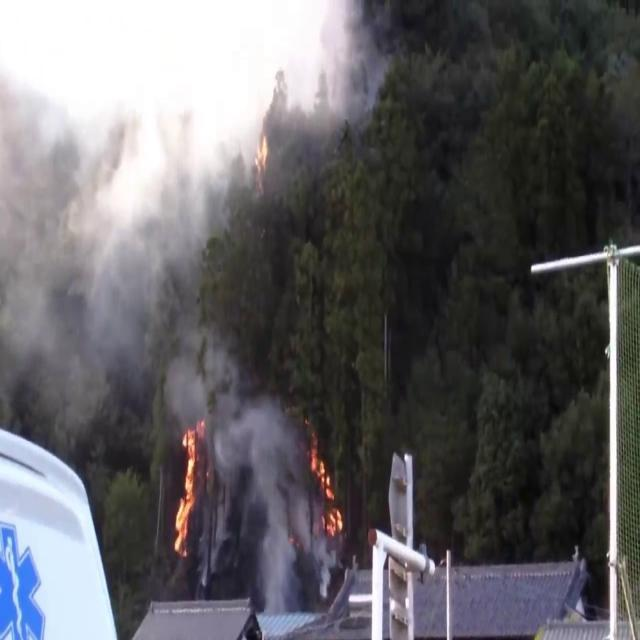Fire: (170, 414, 207, 558), (308, 442, 344, 546)
Smoke: (0, 43, 223, 445), (216, 400, 326, 600)
